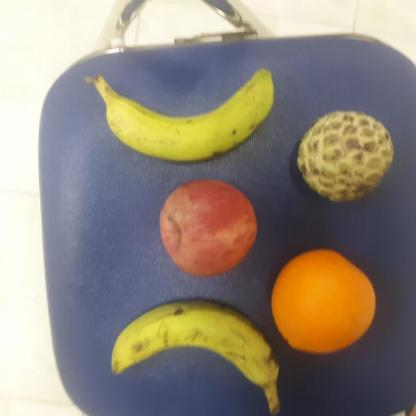annona: (294, 107, 396, 203)
apple: (156, 176, 259, 279)
banana: (88, 64, 276, 162), (109, 294, 282, 397)
orange: (270, 246, 377, 355)
